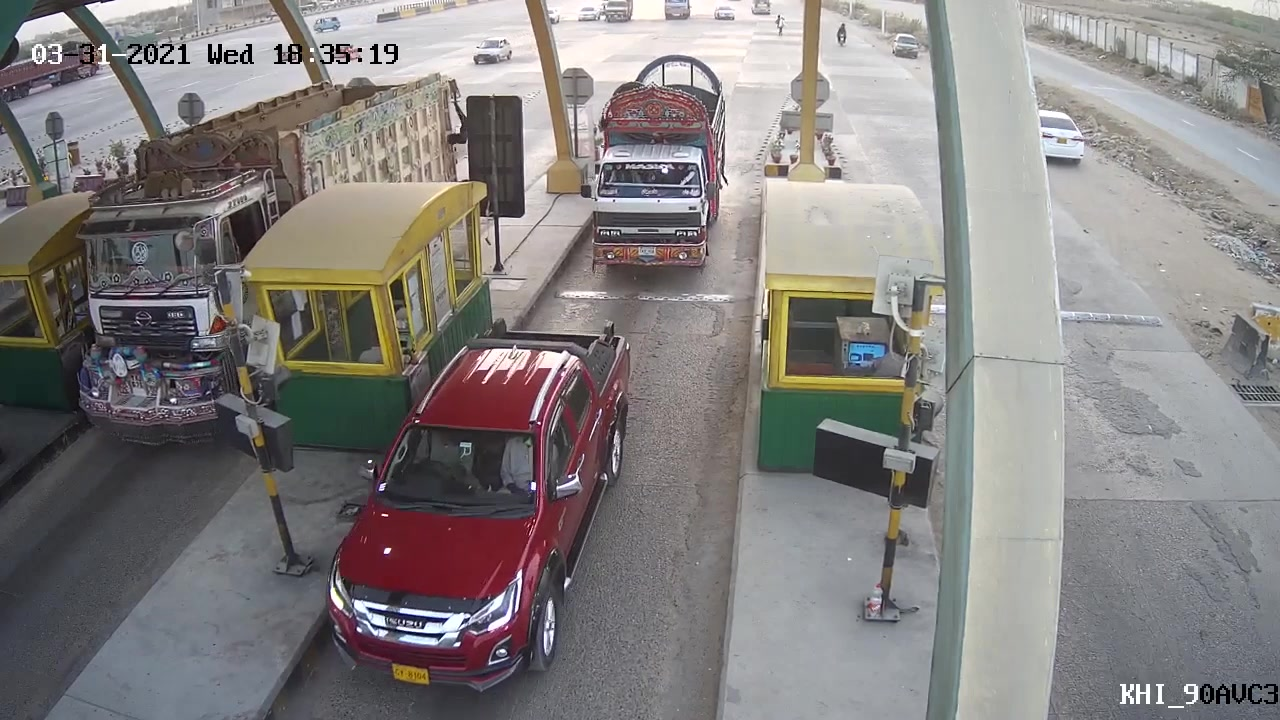F1: (319, 311, 636, 695)
F3: (581, 53, 734, 279)
